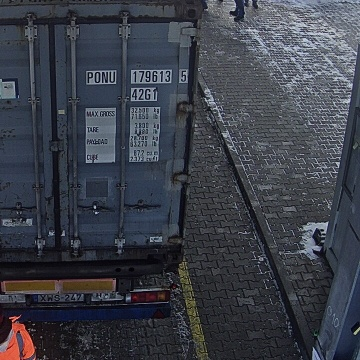serial_id: (86, 70, 186, 83)
